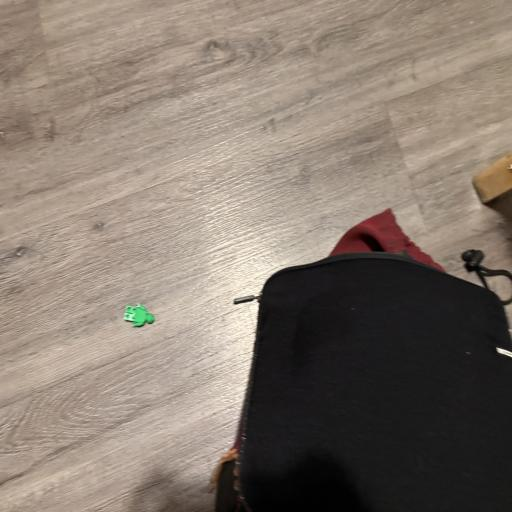Minifig: (124, 303, 154, 327)
